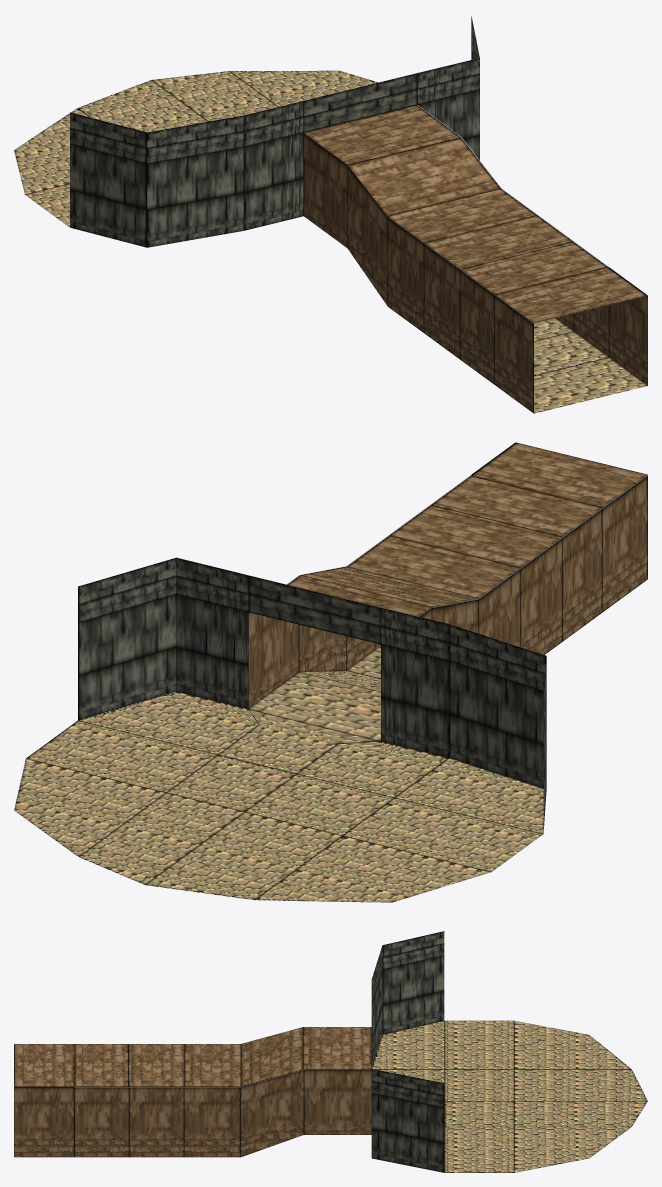
File: test_maze_mapped5.obj
3 views of the same model, one above another, from view 1: azimuth 30°, elevation 25°; view 2: azimuth 150°, elevation 25°; view 3: azimuth 270°, elevation 25° (orthographic). The views are drawn at different scales.
Visible parts, largest first — view 1: mesh01; view 2: mesh01; view 3: mesh01.
Boxes of the visible parts, <box> form: mesh01: <box>14,16,647,413</box>; mesh01: <box>14,442,647,902</box>; mesh01: <box>14,931,647,1172</box>.
Bounding box in the file's own units: 1171 × 402 × 2061.
1 material, 1 textured.
